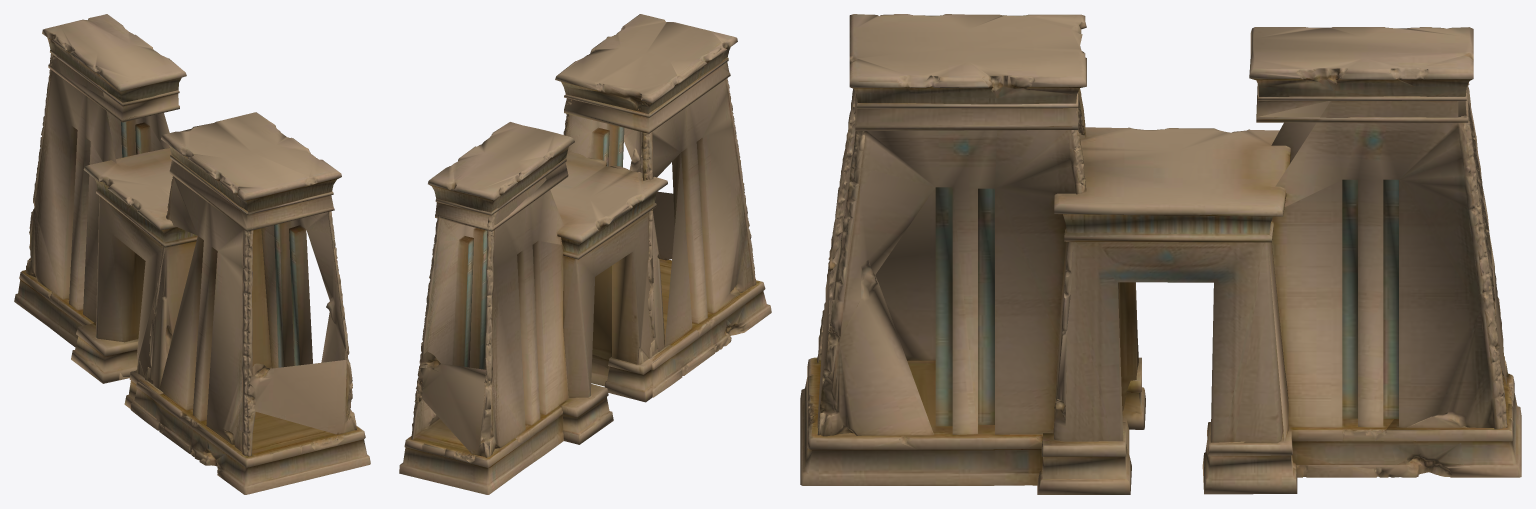
The model's file is greatGate.glb.
3 views of the same model, side by side, from view 1: azimuth 30°, elevation 25°; view 2: azimuth 150°, elevation 25°; view 3: azimuth 270°, elevation 25° (orthographic). The views are drawn at different scales.
Visible parts, largest first — view 1: tripo_node_dee4fd15-ee99-4617-8e26-28f47020015c; view 2: tripo_node_dee4fd15-ee99-4617-8e26-28f47020015c; view 3: tripo_node_dee4fd15-ee99-4617-8e26-28f47020015c.
Boxes of the visible parts, bbox=[...] form: tripo_node_dee4fd15-ee99-4617-8e26-28f47020015c: bbox=[14, 14, 370, 494]; tripo_node_dee4fd15-ee99-4617-8e26-28f47020015c: bbox=[399, 14, 771, 494]; tripo_node_dee4fd15-ee99-4617-8e26-28f47020015c: bbox=[800, 14, 1521, 494].
Size of the model in its own units: 0.3145 by 0.6113 by 0.998.
Materials: 1 (1 with a texture image).
